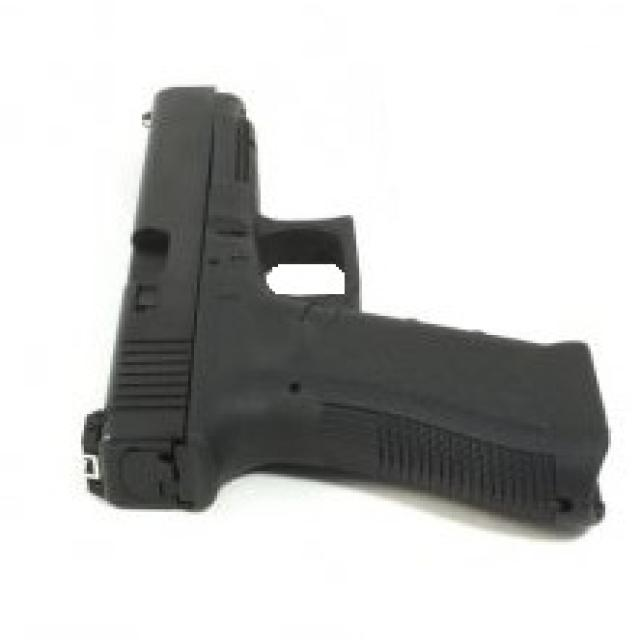pistol: (79, 57, 628, 542)
